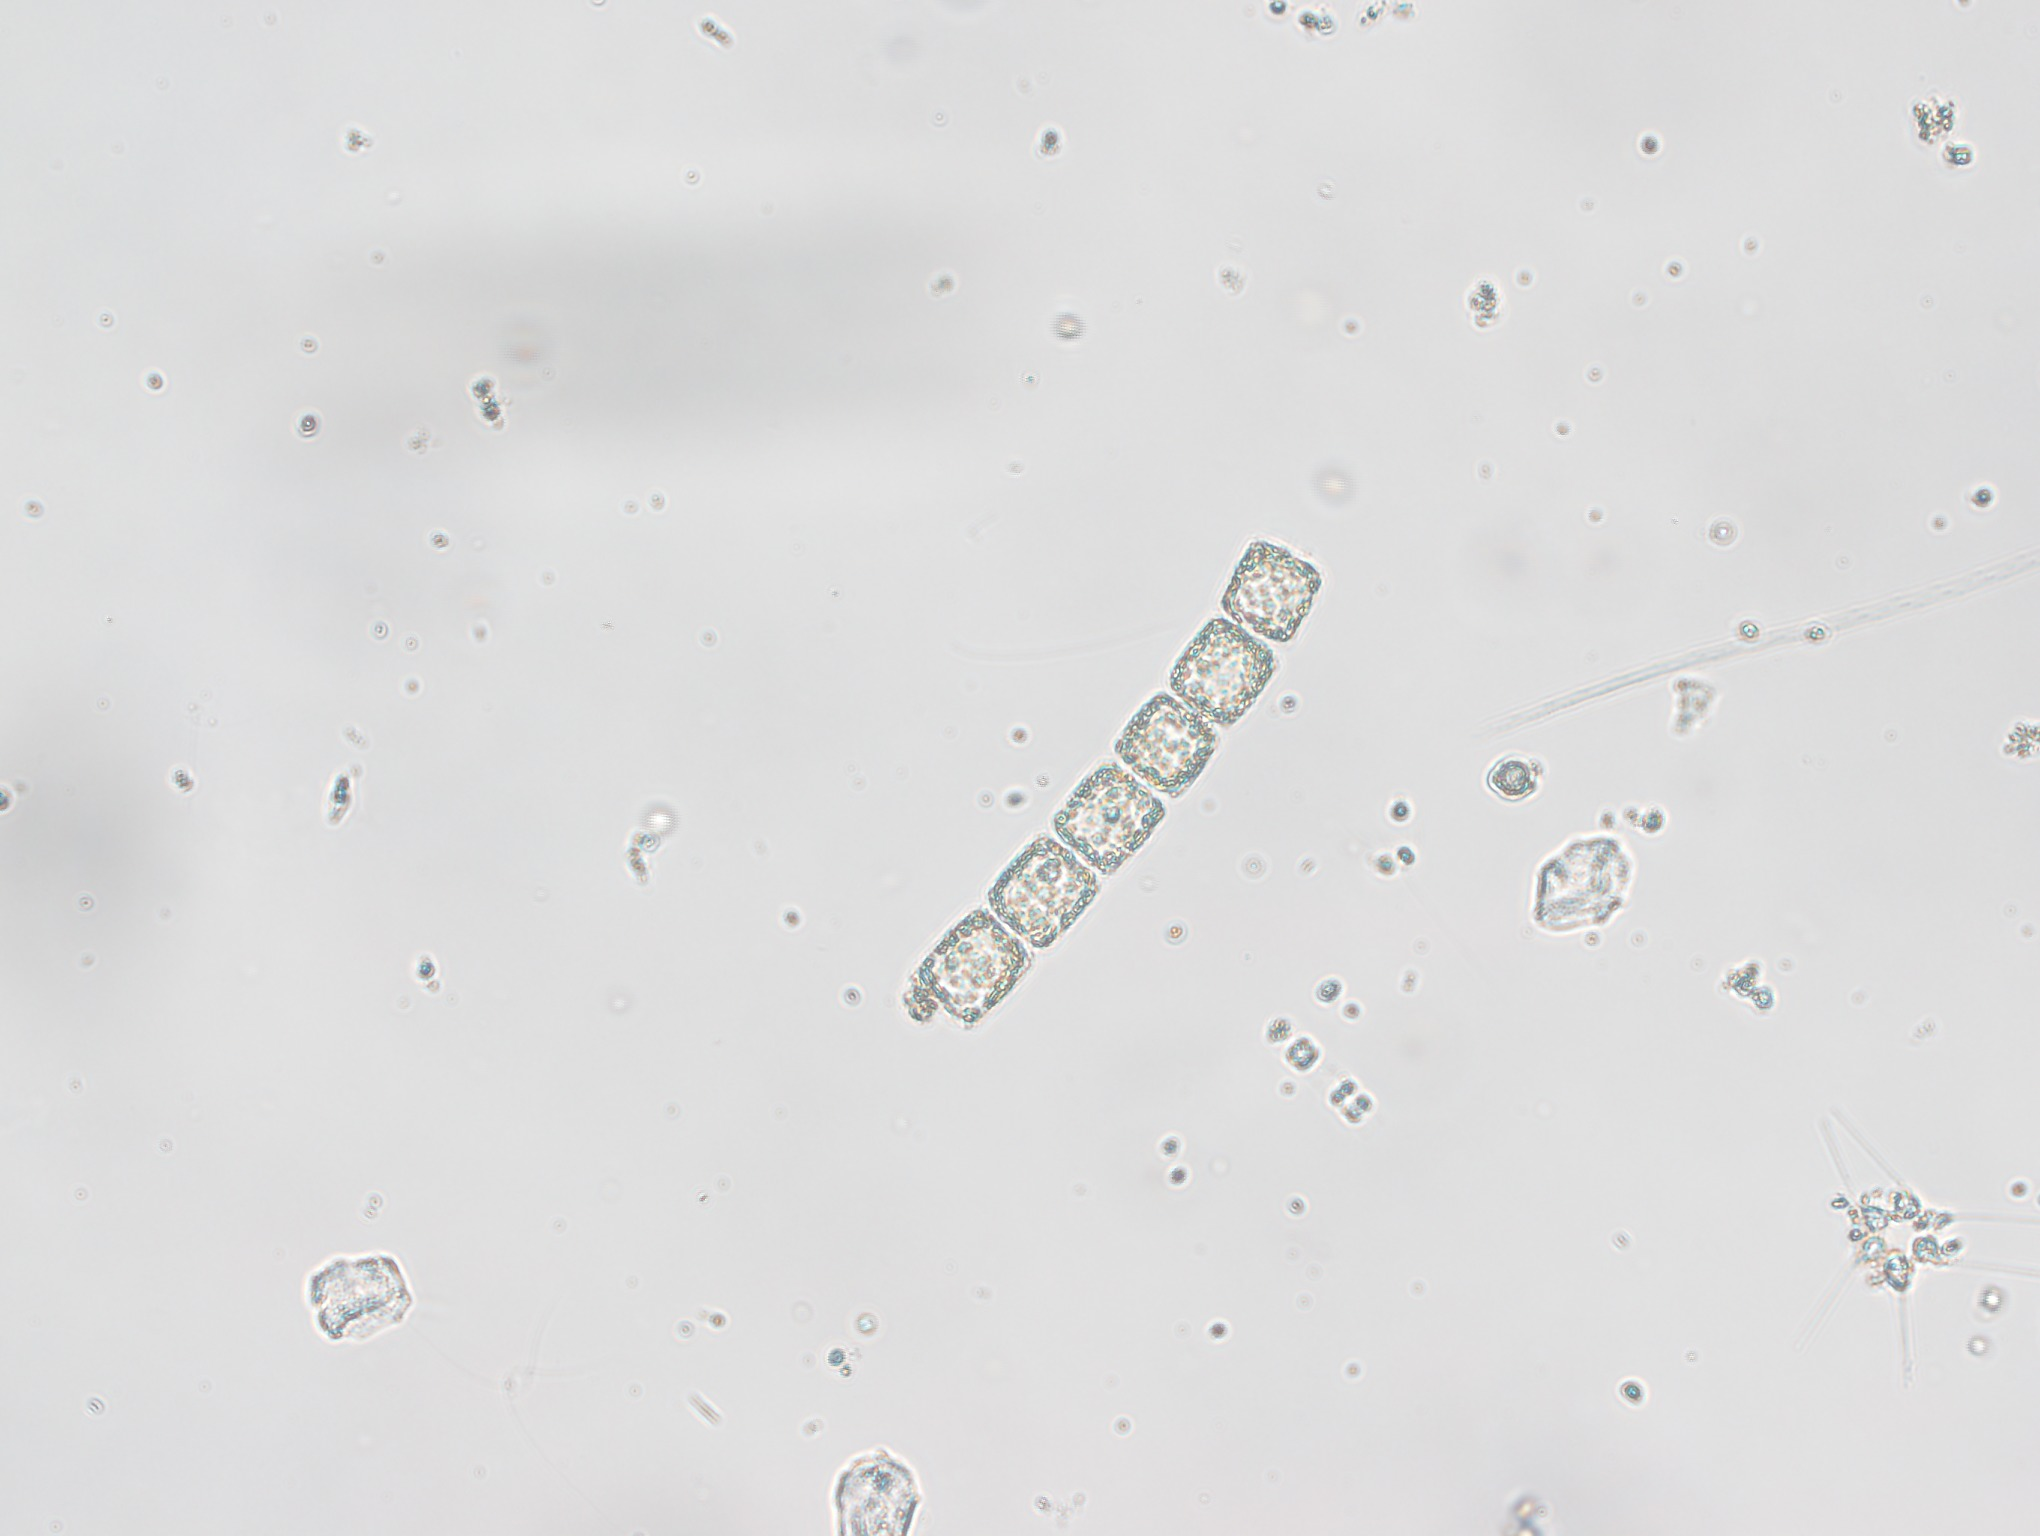detonula pumila: (848, 484, 1351, 1034)
